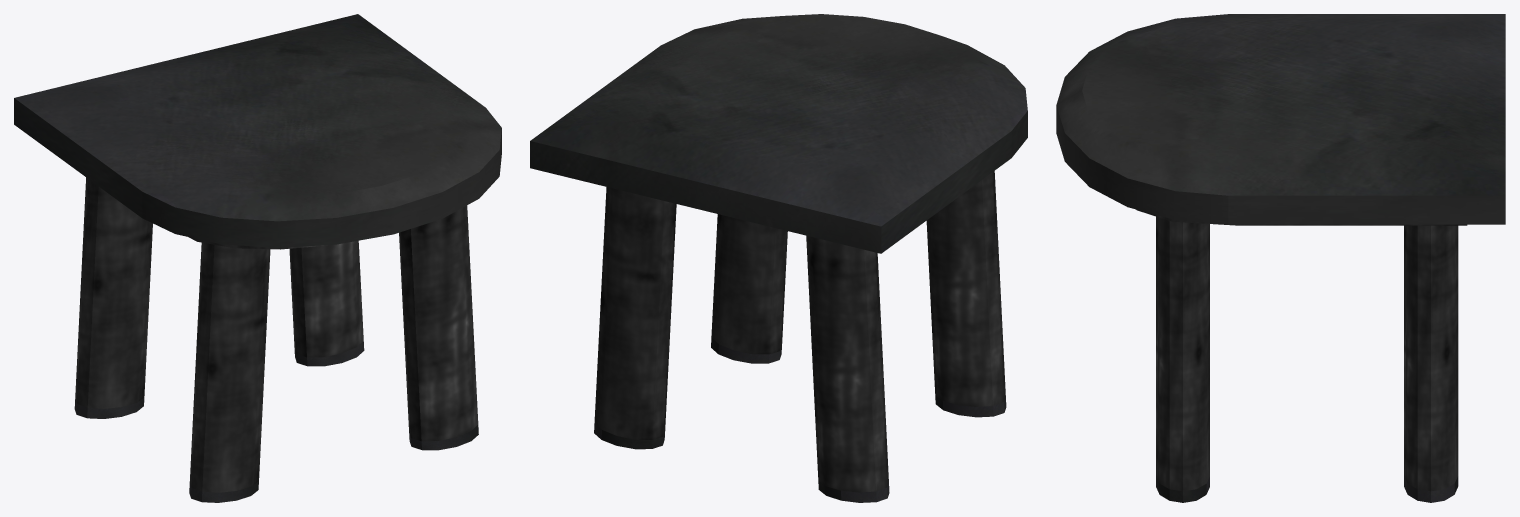
File: Stool.fbx
3 views of the same model, side by side, from view 1: azimuth 30°, elevation 25°; view 2: azimuth 150°, elevation 25°; view 3: azimuth 270°, elevation 25° (orthographic). The views are drawn at different scales.
Parts seen in each view (by area): view 1: Stool; view 2: Stool; view 3: Stool.
Part boxes in pixels (box(x1,y1,x2,y2)): Stool: box(14, 14, 501, 502); Stool: box(530, 14, 1027, 502); Stool: box(1056, 14, 1505, 502).
Size of the model in its own units: 2.56 by 2.23 by 2.67.
